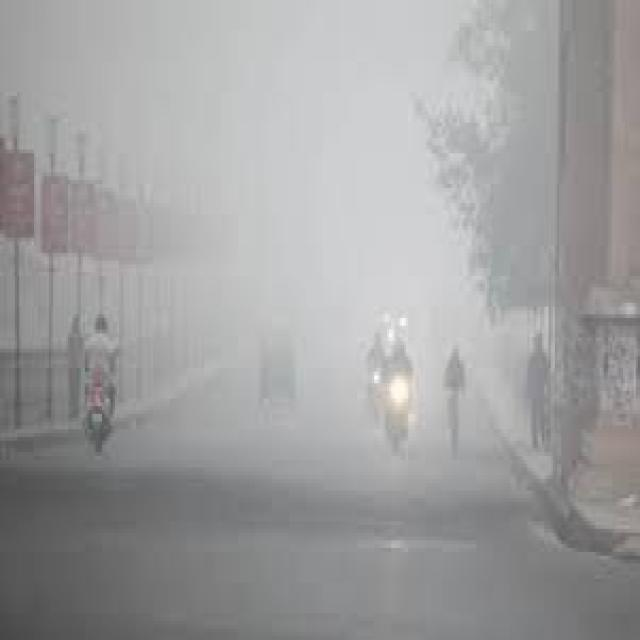no-low traffic: (67, 241, 499, 640)
